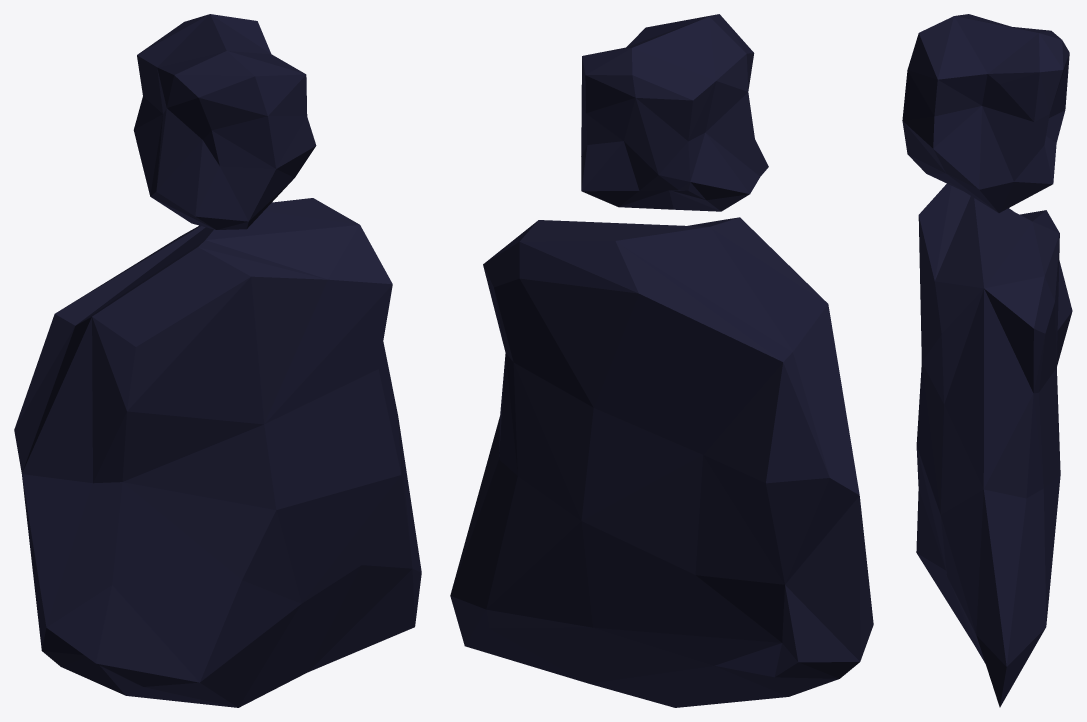
File: boss0.obj
3 renders of one model, left to right at view 1: azimuth 30°, elevation 25°; view 2: azimuth 150°, elevation 25°; view 3: azimuth 270°, elevation 25°, orthographic. The views are drawn at different scales.
Visible parts, largest first — view 1: body_立方体.001, head_立方体; view 2: body_立方体.001, head_立方体; view 3: body_立方体.001, head_立方体.
Boxes of the visible parts, left/top/right/bottom form: body_立方体.001: left=14, top=198, right=421, bottom=707; head_立方体: left=133, top=14, right=316, bottom=229; body_立方体.001: left=450, top=217, right=873, bottom=707; head_立方体: left=581, top=14, right=768, bottom=211; body_立方体.001: left=916, top=183, right=1072, bottom=707; head_立方体: left=902, top=14, right=1069, bottom=212.
Size of the model in its own units: 5.69 by 9.13 by 2.28.
Materials: 1 (1 with a texture image).
